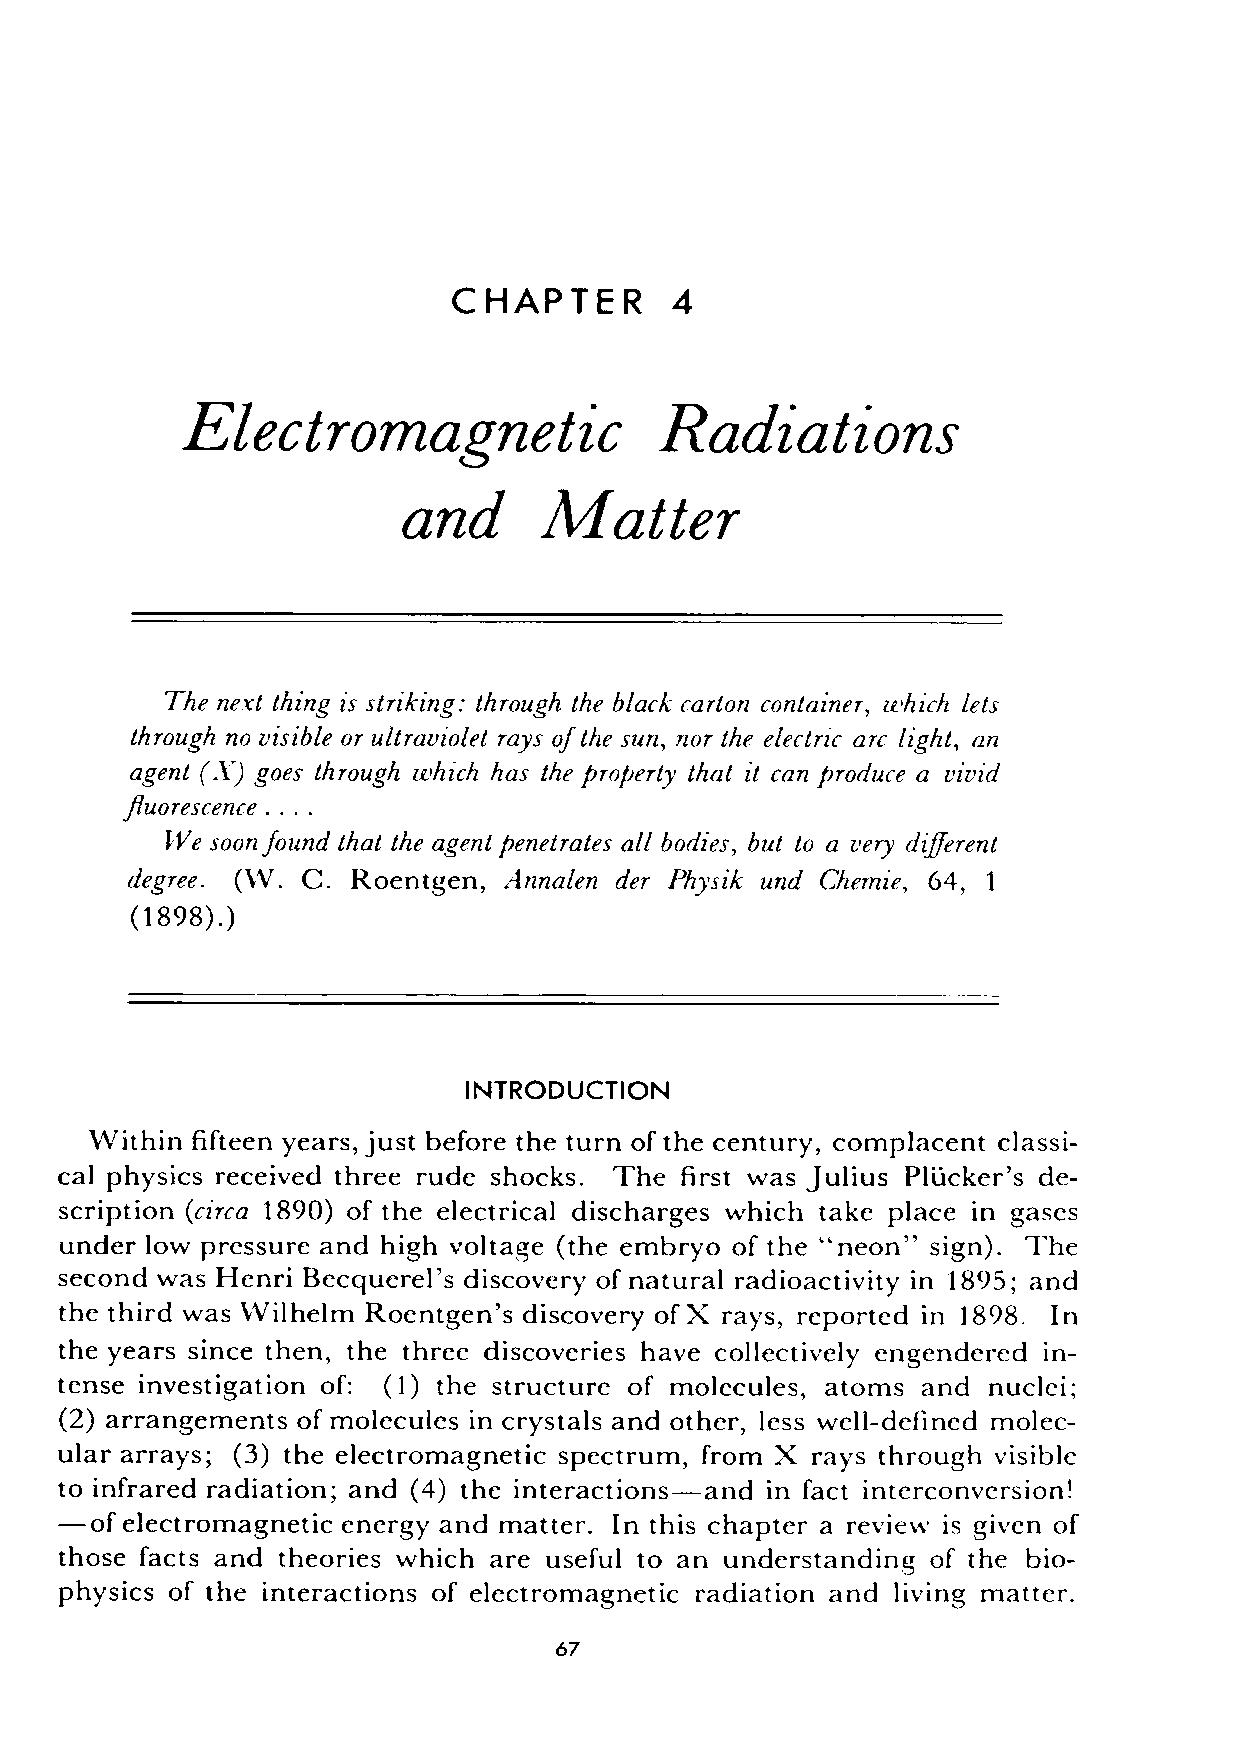chapter: (178, 283, 961, 541), (460, 1078, 671, 1103)
content: (54, 1127, 1079, 1610), (121, 687, 1002, 933)
content_pagenumber: (549, 1639, 582, 1659)
